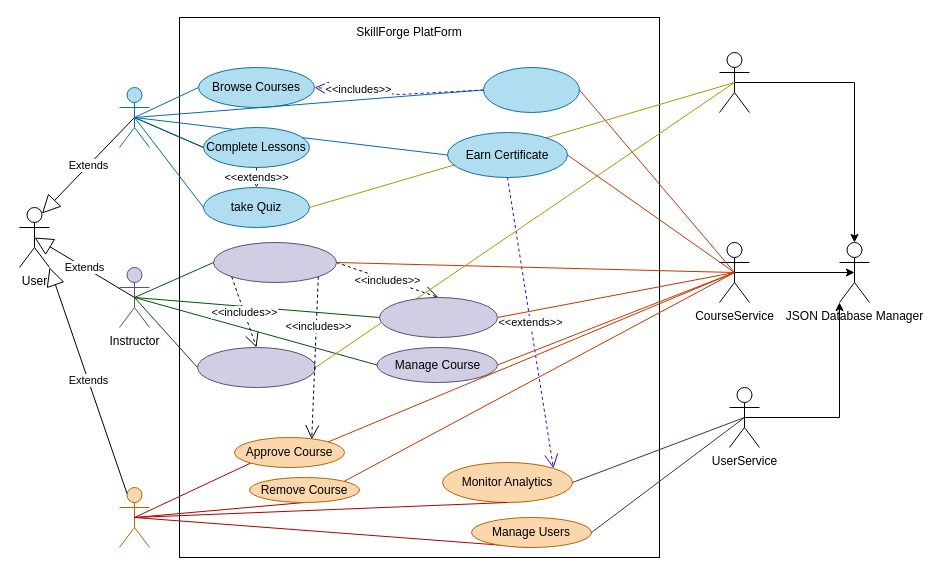
Image size: 940x586. Some labels were removed from this diagram. The centre of each missing label's shape, as x and y in pixels:
Admin: point 134,517
Create Course: point 274,262
Design Quiz: point 256,367
Enroll A Course: point 531,89
QuizService: point 734,82
Student: point 134,117
Upload Lesson: point 438,317
